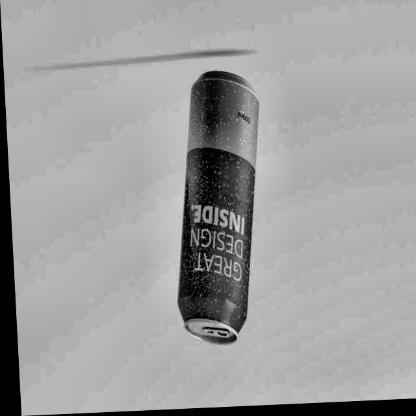Can: (157, 65, 270, 353)
